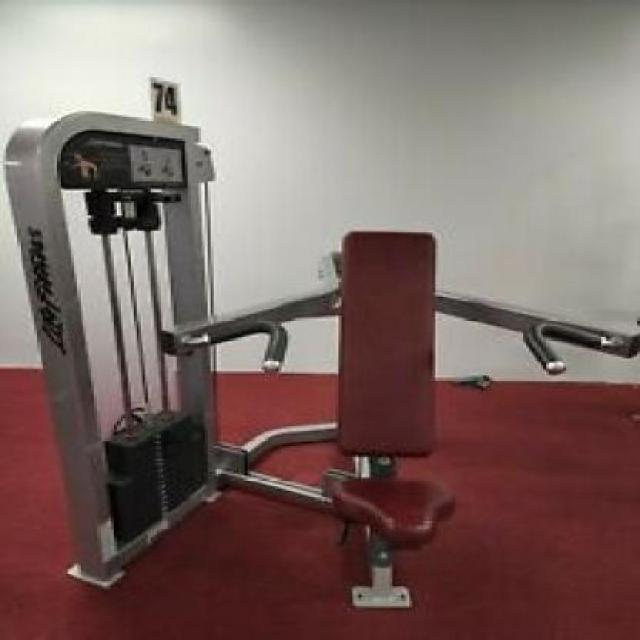shoulder press machine: (7, 111, 640, 611)
